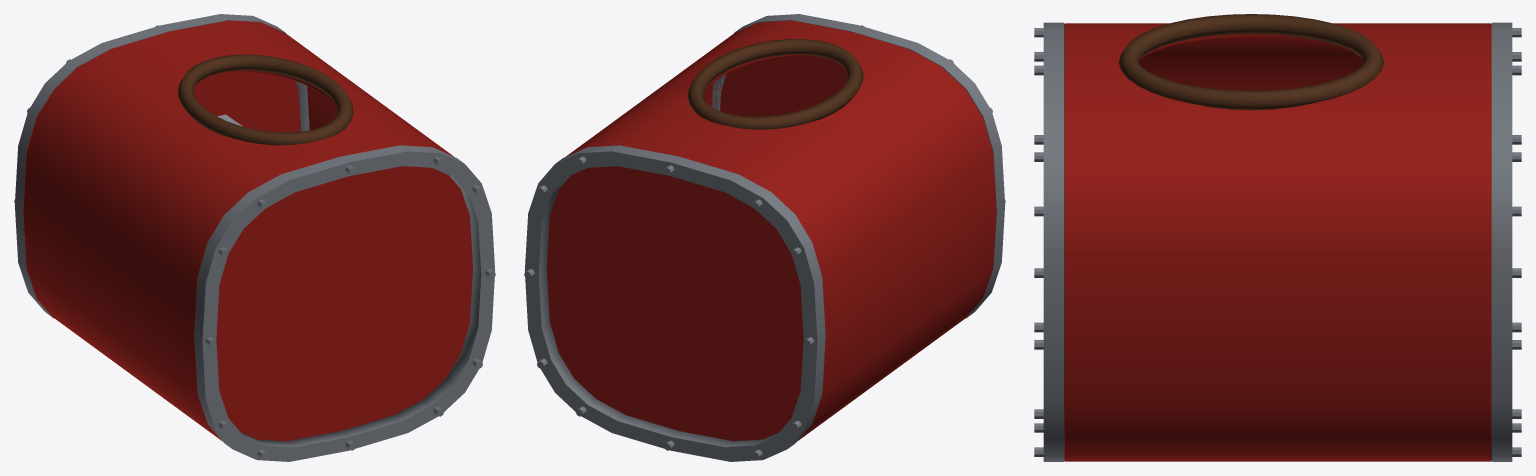
The model's file is cockpit_radial.glb.
3 renders of one model, left to right at view 1: azimuth 30°, elevation 25°; view 2: azimuth 150°, elevation 25°; view 3: azimuth 270°, elevation 25°, orthographic. The views are drawn at different scales.
Visible parts, largest first — view 1: Cockpit, FrameB, FrameF; view 2: Cockpit, FrameF, FrameB; view 3: Cockpit, FrameF, FrameB.
Boxes of the visible parts, x1,y1,x2,y2 form: Cockpit: [23, 20, 472, 441]; FrameB: [194, 145, 495, 461]; FrameF: [14, 14, 309, 317]; Cockpit: [547, 20, 996, 441]; FrameF: [524, 145, 825, 461]; FrameB: [711, 14, 1005, 318]; Cockpit: [1064, 14, 1491, 461]; FrameF: [1491, 22, 1521, 461]; FrameB: [1034, 22, 1064, 461].
Size of the model in its own units: 1.2 by 1.15 by 1.39.
